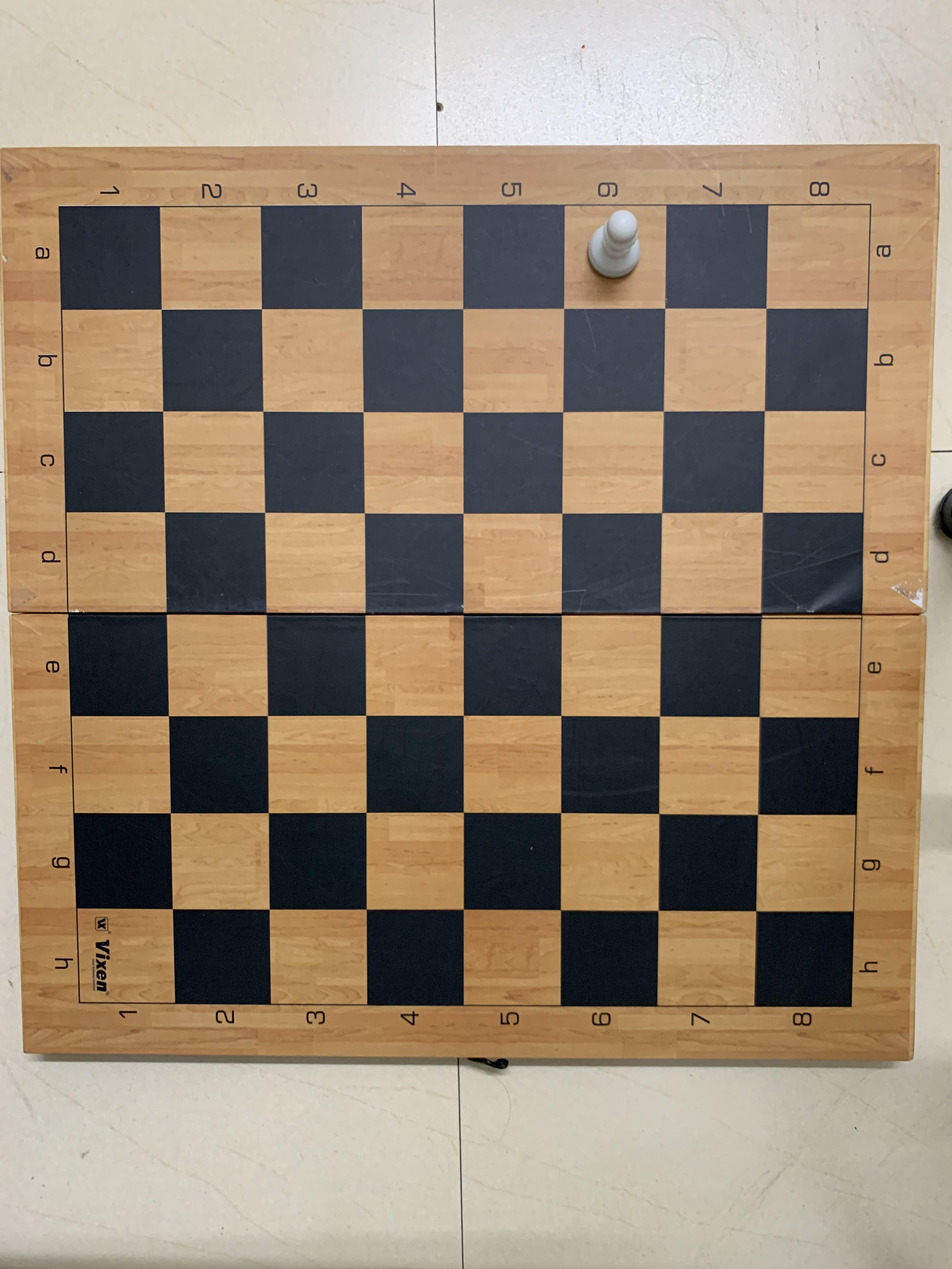white_pawn: (568, 203, 662, 310)
